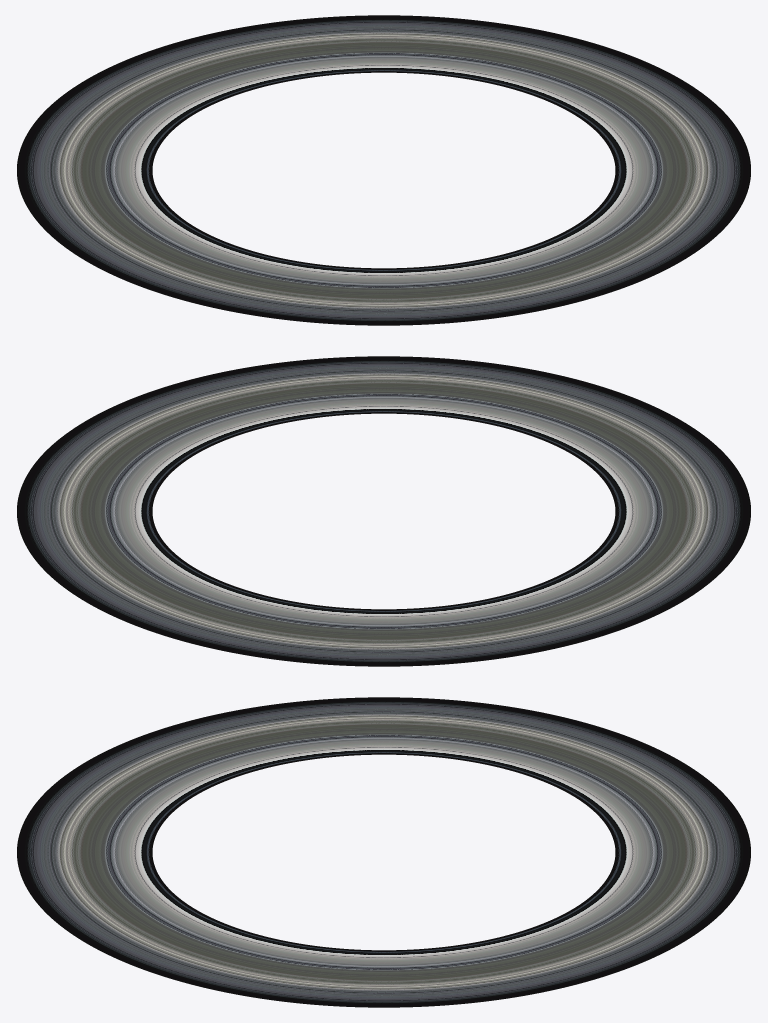
The model's file is Rings.fbx.
3 renders of one model, top to bottom at view 1: azimuth 30°, elevation 25°; view 2: azimuth 150°, elevation 25°; view 3: azimuth 270°, elevation 25°, orthographic.
Visible parts, largest first — view 1: Saturn_Rings; view 2: Saturn_Rings; view 3: Saturn_Rings.
Part boxes in pixels (bbox=[...]): Saturn_Rings: bbox=[17, 15, 750, 325]; Saturn_Rings: bbox=[17, 356, 750, 666]; Saturn_Rings: bbox=[17, 697, 750, 1007].
Size of the model in its own units: 452 by 0 by 452.
